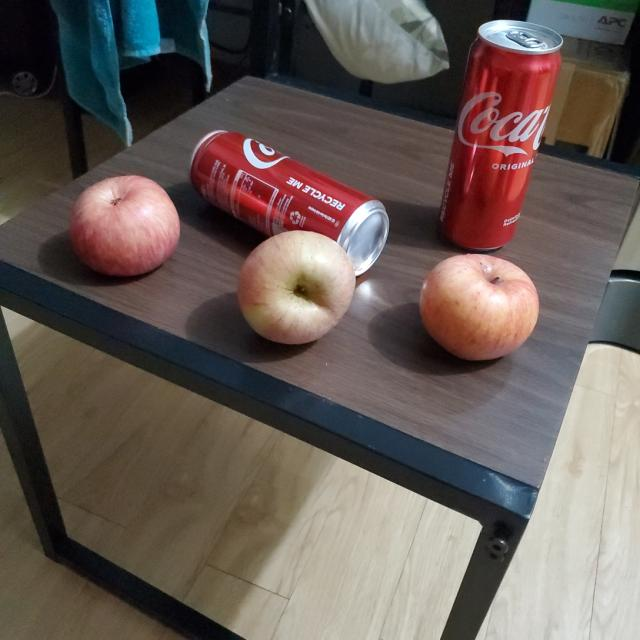apple: (238, 232, 359, 346), (421, 254, 542, 362), (70, 172, 182, 274)
coke: (440, 24, 566, 253), (188, 126, 388, 269)
